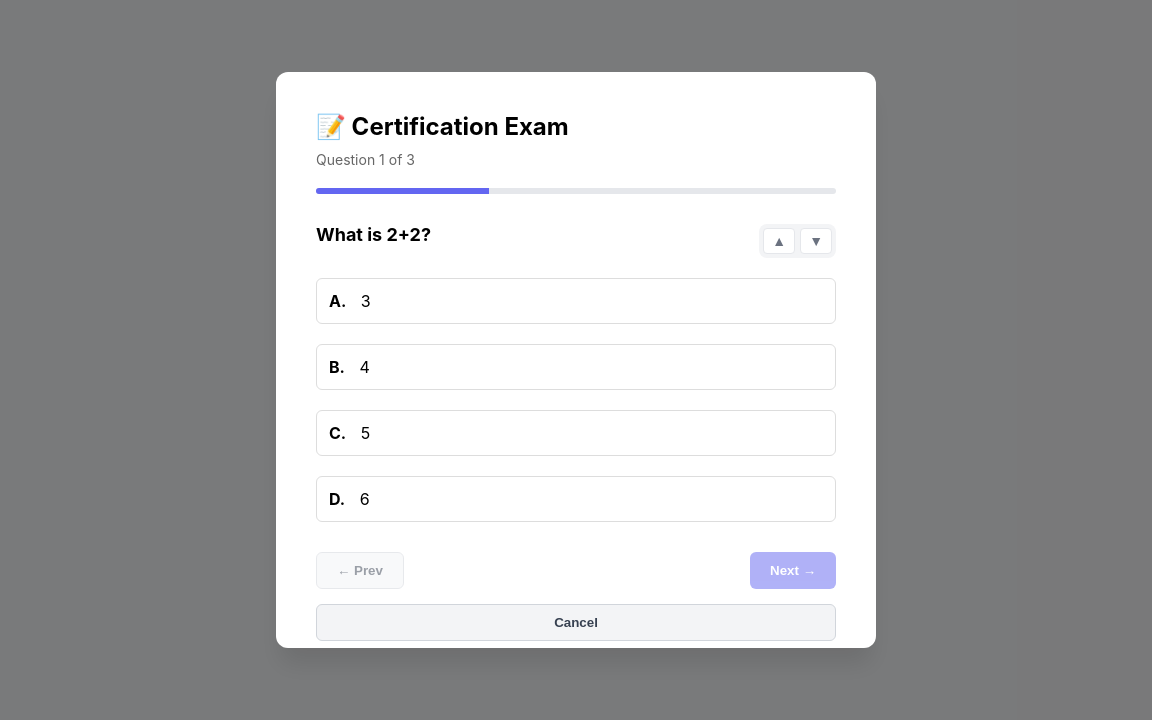
Test: QuizModal Component Tests › fails a quiz and shows "Keep Learning" (0/3 correct)
expect the heading "What is 2+2?" is shown: met, box x1=316 y1=224 x2=431 y2=245
Click the text "A. 3" at (576, 301), box x1=316 y1=278 x2=836 y2=324
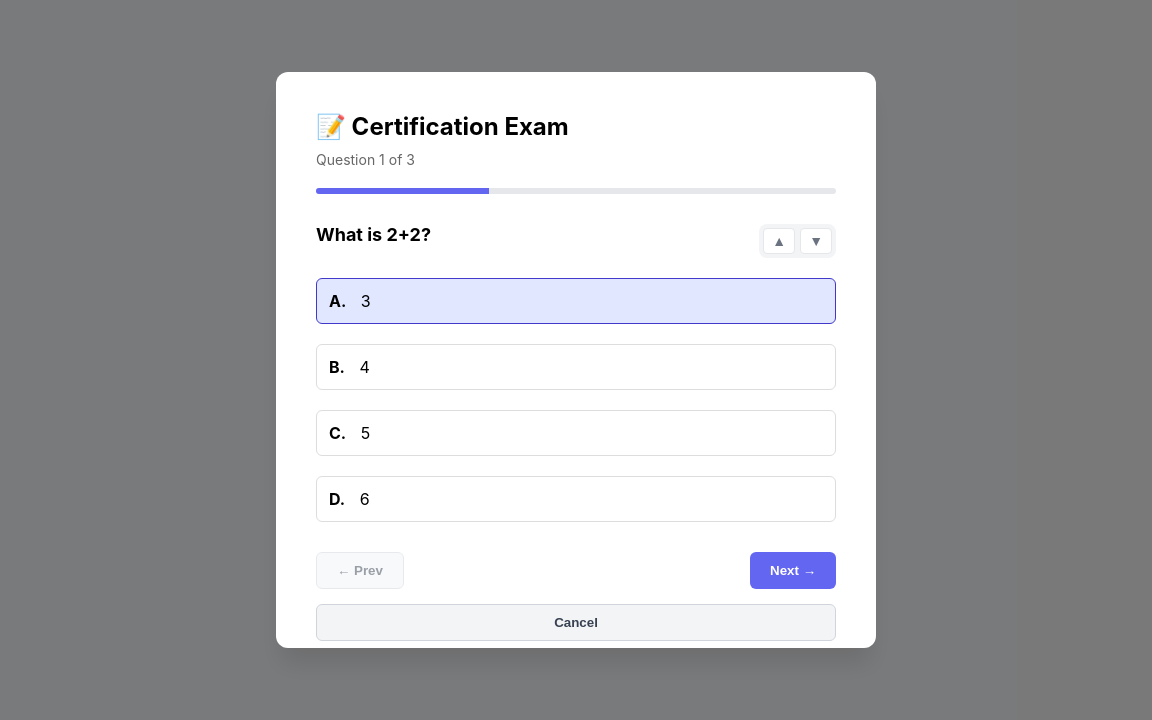
Click the button "Next →" at (793, 570), box x1=750 y1=552 x2=836 y2=589
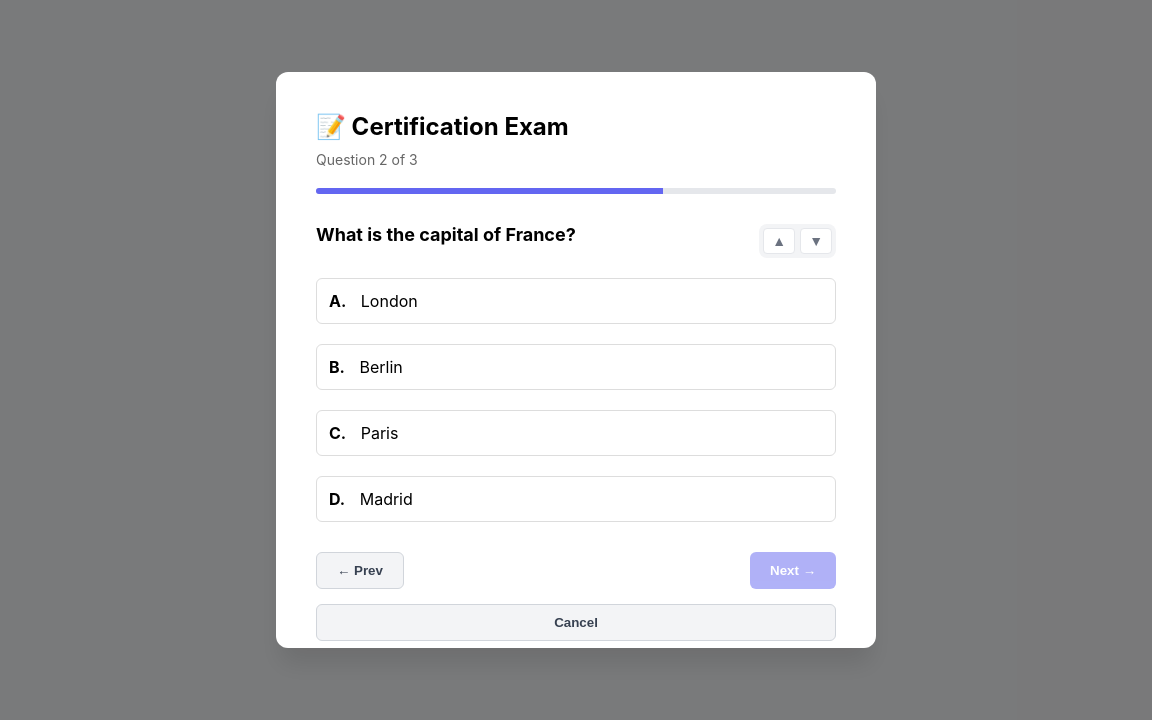
expect the heading "What is the capital of France?" is shown: met, box x1=316 y1=224 x2=576 y2=245
Click the text "A. London" at (576, 301), box x1=316 y1=278 x2=836 y2=324
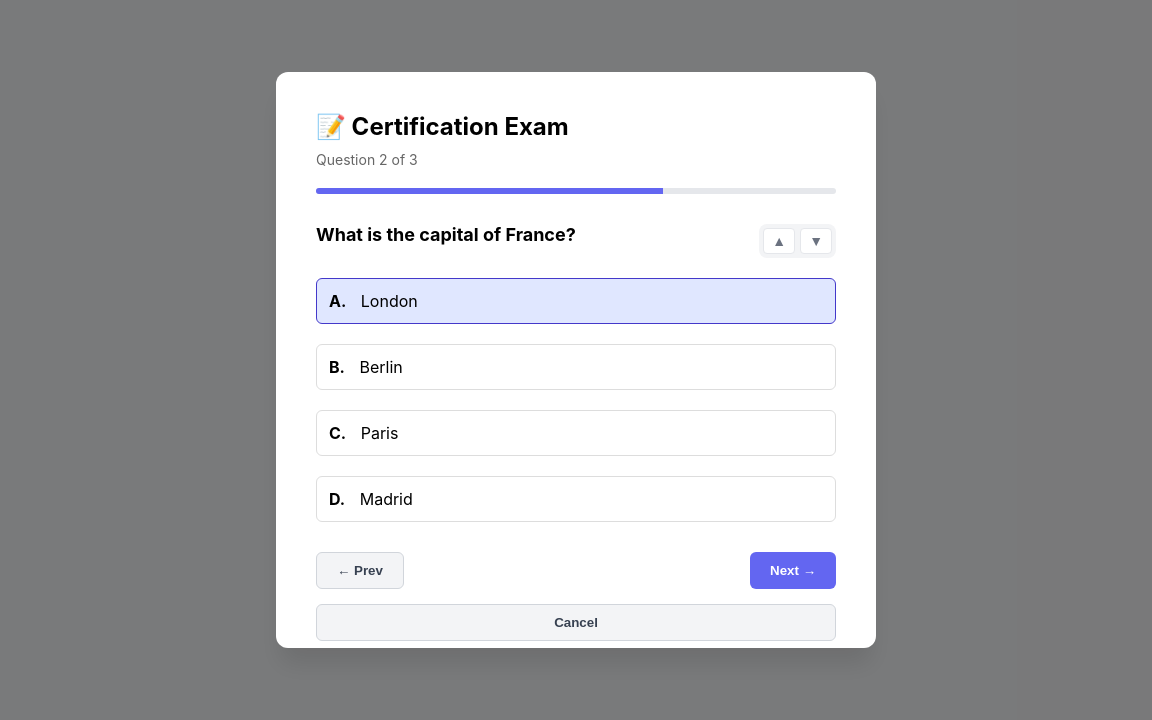
Click the button "Next →" at (793, 570), box x1=750 y1=552 x2=836 y2=589
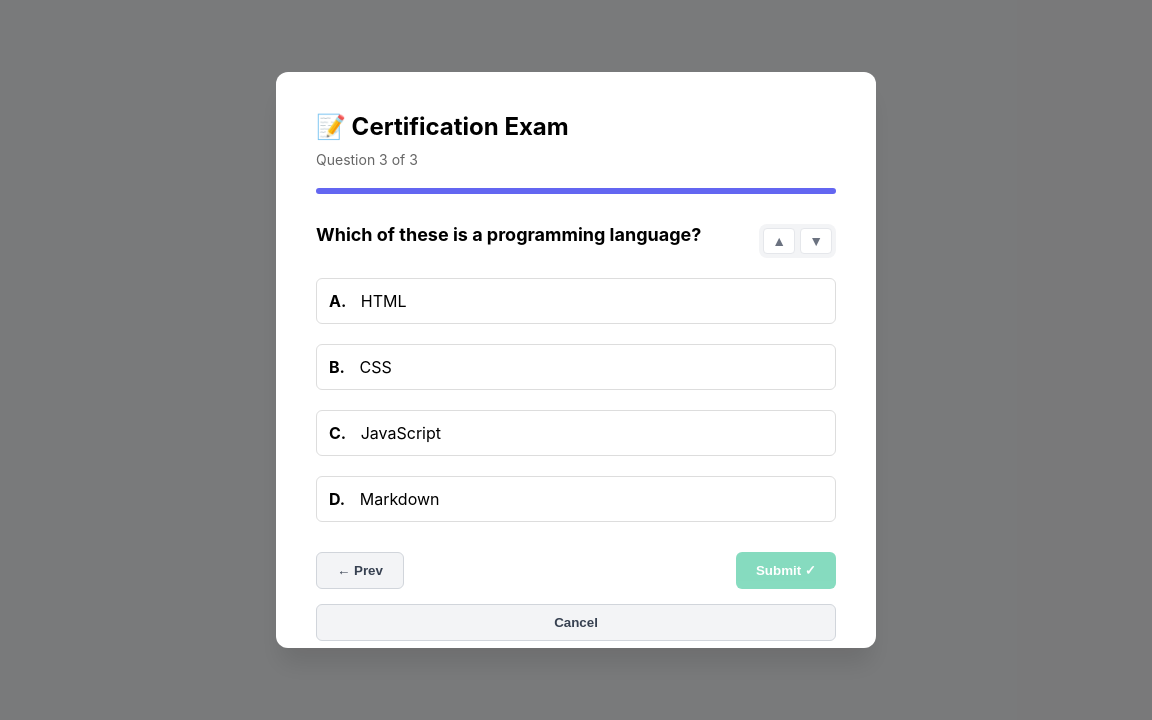
expect the heading "Which of these is a programming language?" is shown: met, box x1=316 y1=224 x2=701 y2=245
Click the text "A. HTML" at (576, 301), box x1=316 y1=278 x2=836 y2=324
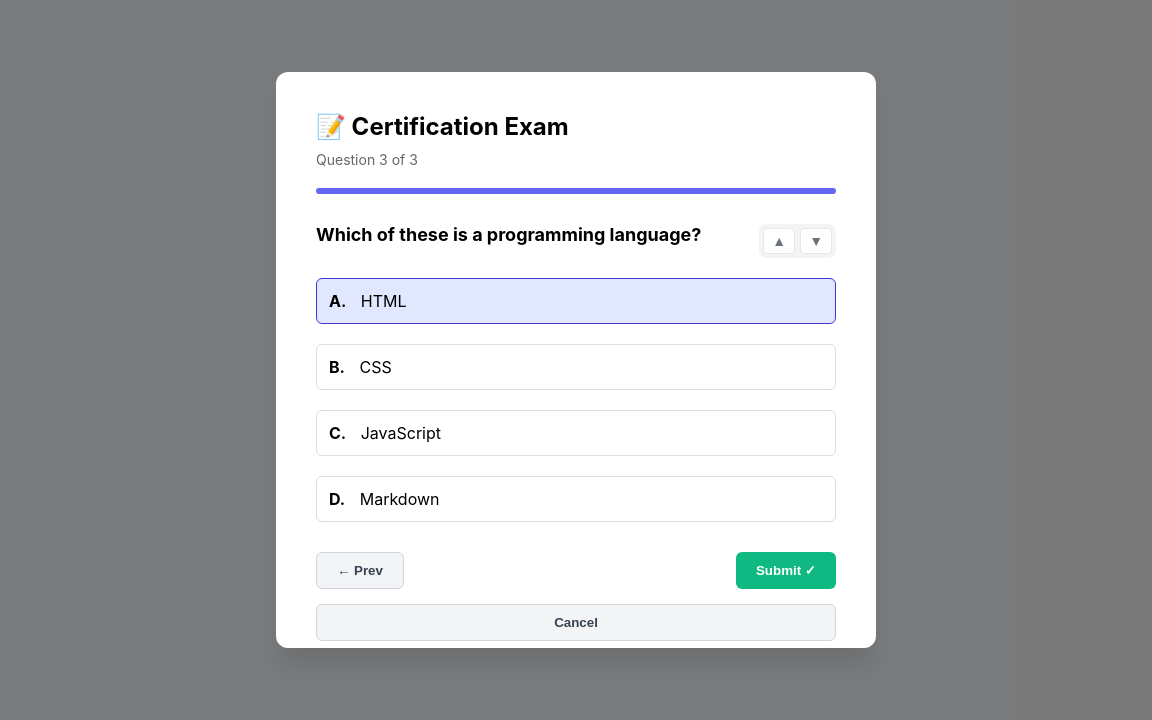
Click the button "Submit ✓" at (786, 570), box x1=736 y1=552 x2=836 y2=589
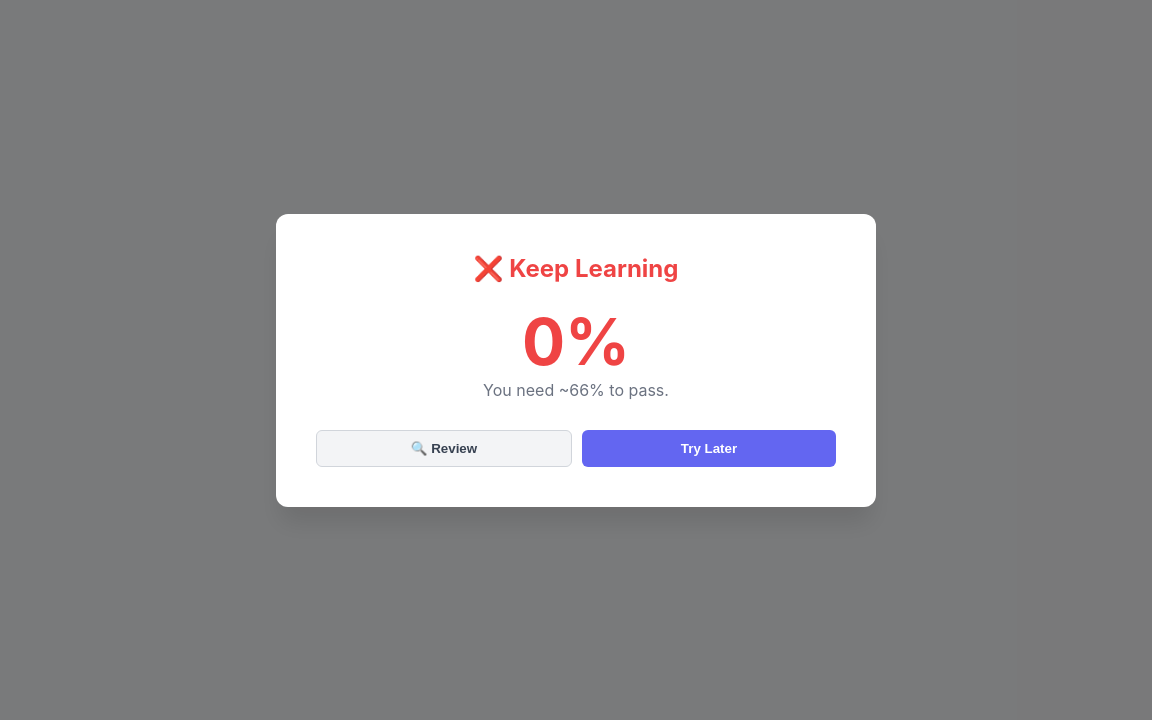
expect the text "0%" is shown: met, box x1=522 y1=302 x2=630 y2=380
expect the heading "❌ Keep Learning" is shown: met, box x1=474 y1=254 x2=678 y2=282
